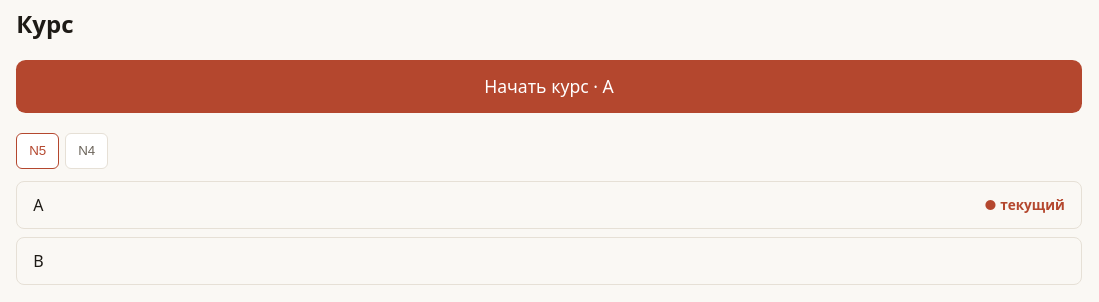
Test: CourseScreen › splits the list into JLPT-level tabs and shows only the active level
Expected: the number of list items with class "course-item" is 2, [16, 181, 1082, 229]; [16, 237, 1082, 285]
Expected: the text "D" is not shown
Click the tab "N4" at (87, 151), box [65, 133, 108, 169]
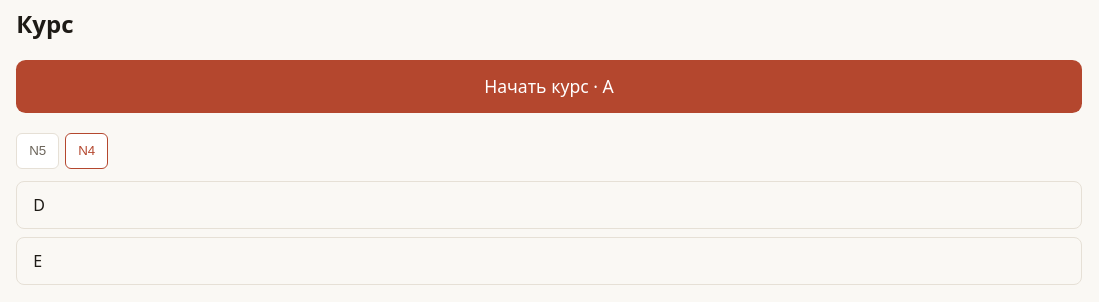
Expected: the number of list items with class "course-item" is 2, [16, 181, 1082, 229]; [16, 237, 1082, 285]
Result: the text "D" is shown at [33, 194, 45, 216]
